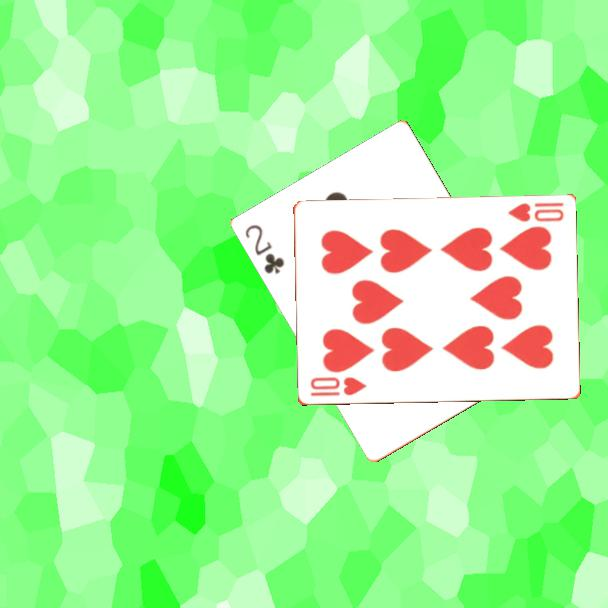c02: (242, 221, 288, 277)
h10: (505, 199, 566, 225), (307, 374, 369, 399)
